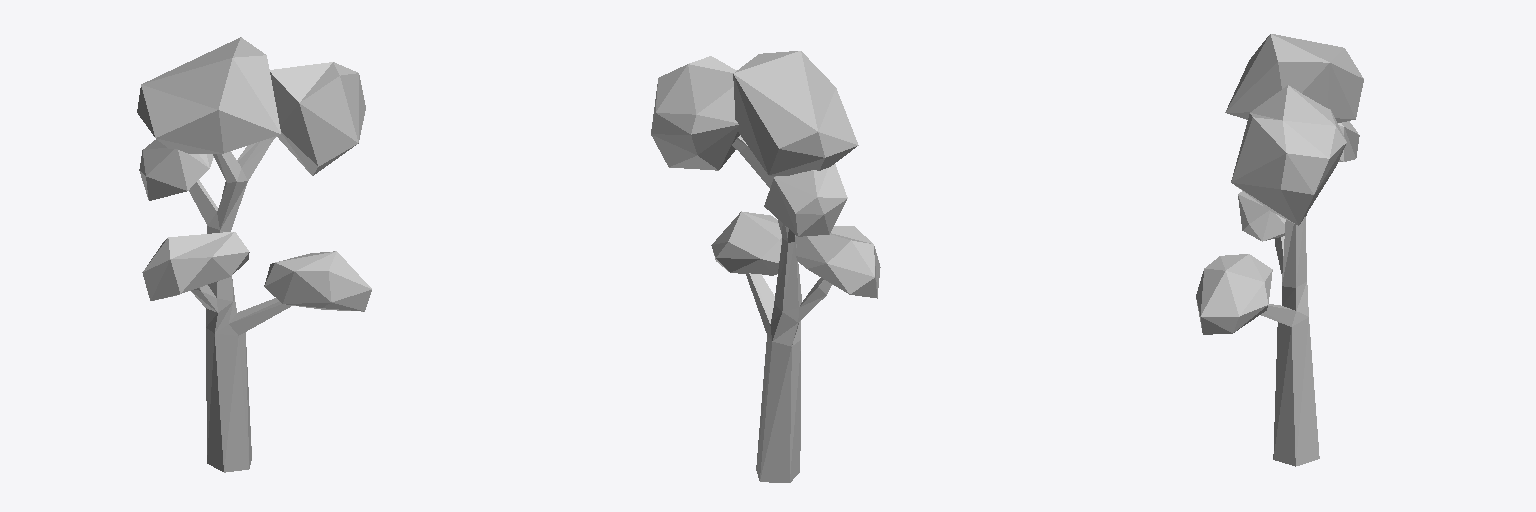
File: Forest_C_Tree_12.obj
3 renders of one model, left to right at view 1: azimuth 30°, elevation 25°; view 2: azimuth 150°, elevation 25°; view 3: azimuth 270°, elevation 25°, orthographic.
Parts seen in each view (by area): view 1: Forest_C_Tree_12; view 2: Forest_C_Tree_12; view 3: Forest_C_Tree_12.
Boxes of the visible parts, x1=… form: Forest_C_Tree_12: x1=137, y1=37, x2=371, y2=472; Forest_C_Tree_12: x1=651, y1=51, x2=880, y2=482; Forest_C_Tree_12: x1=1196, y1=34, x2=1363, y2=466.
Bounding box in the file's own units: 294 × 530 × 194.